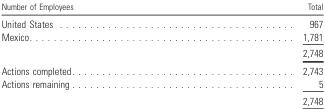table: (0, 0, 322, 105)
table column: (0, 0, 187, 105), (187, 0, 322, 105)
table column header: (0, 0, 322, 14)
table row: (0, 44, 322, 61), (0, 14, 322, 29), (0, 29, 322, 44), (0, 61, 322, 76), (0, 76, 322, 91), (0, 0, 322, 14), (0, 91, 322, 105)
